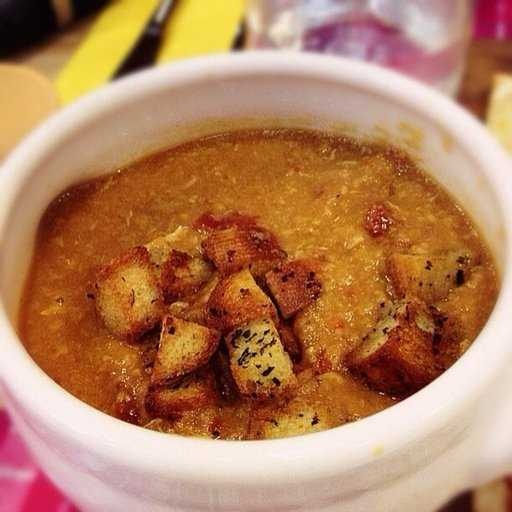soup: (45, 101, 450, 422)
